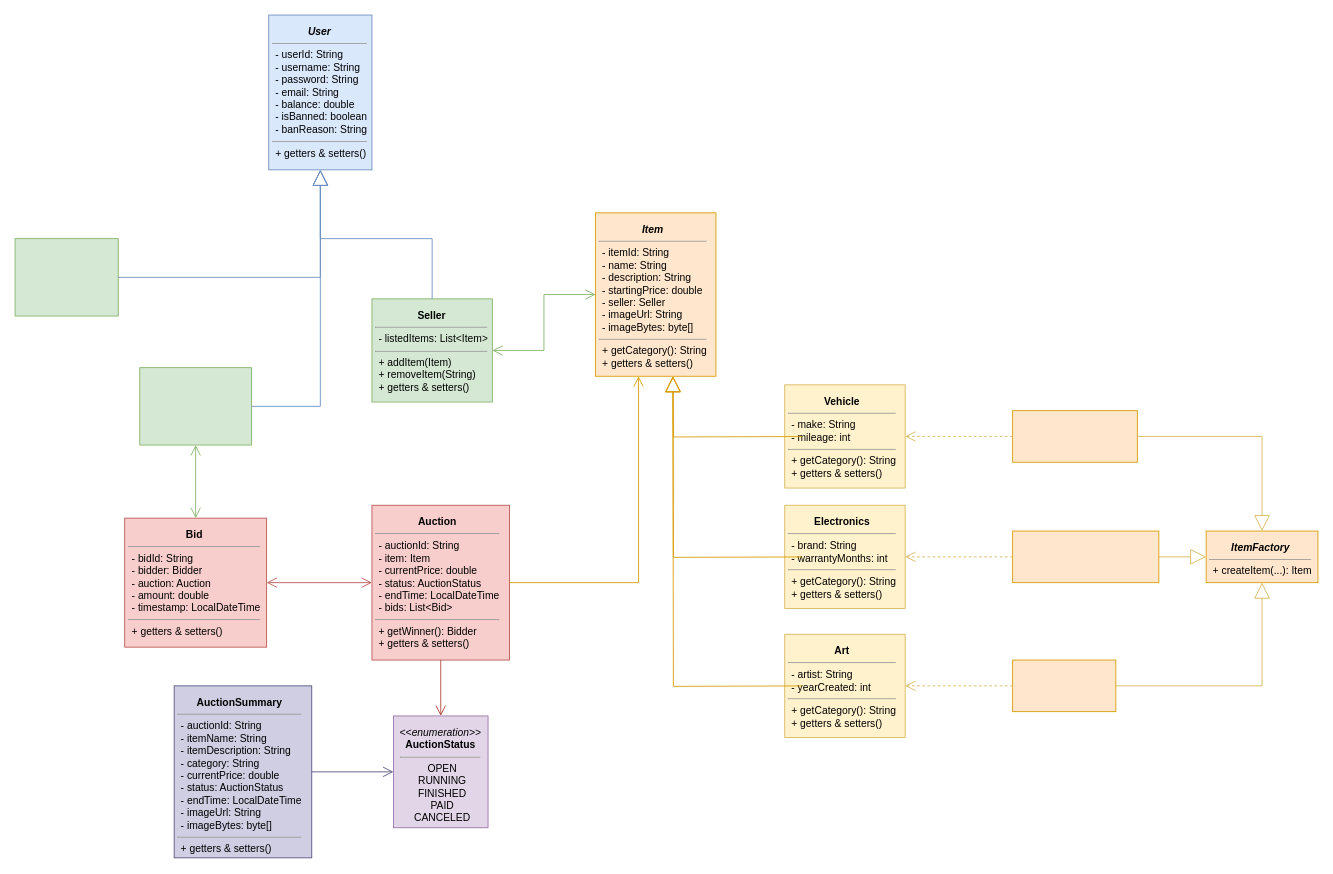
Some shapes in this 1333 by 874 pixel diagram are drawn without their labels. Here are the shapes that lost their labels. From the top down, the box of each, then its label:
(14, 238, 118, 316): Admin - adminLevel: int + getters & setters()
(139, 367, 252, 445): Bidder - bidHistory: List<Bid> + getters & setters()
(1012, 410, 1137, 462): VehicleFactory + createItem(...): Vehicle
(1012, 530, 1159, 583): ElectronicsFactory + createItem(...): Electronics
(1012, 659, 1116, 712): ArtFactory + createItem(...): Art
